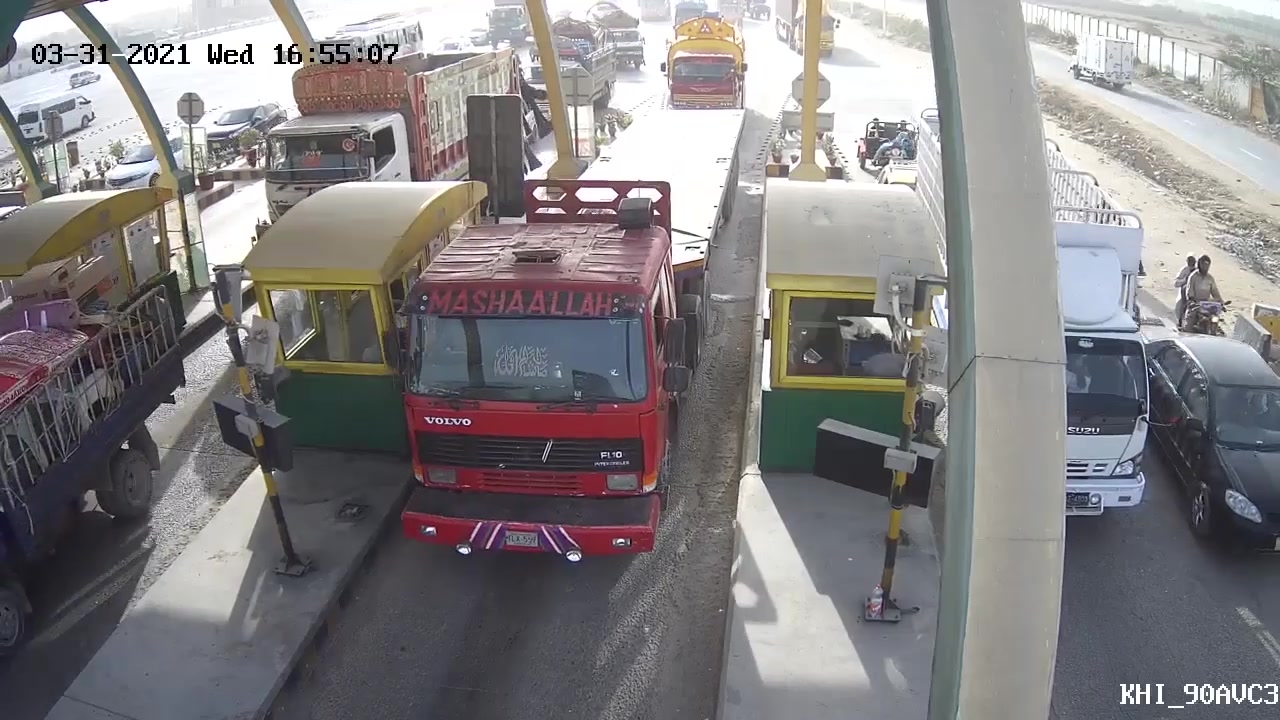F6: (387, 98, 745, 569)
